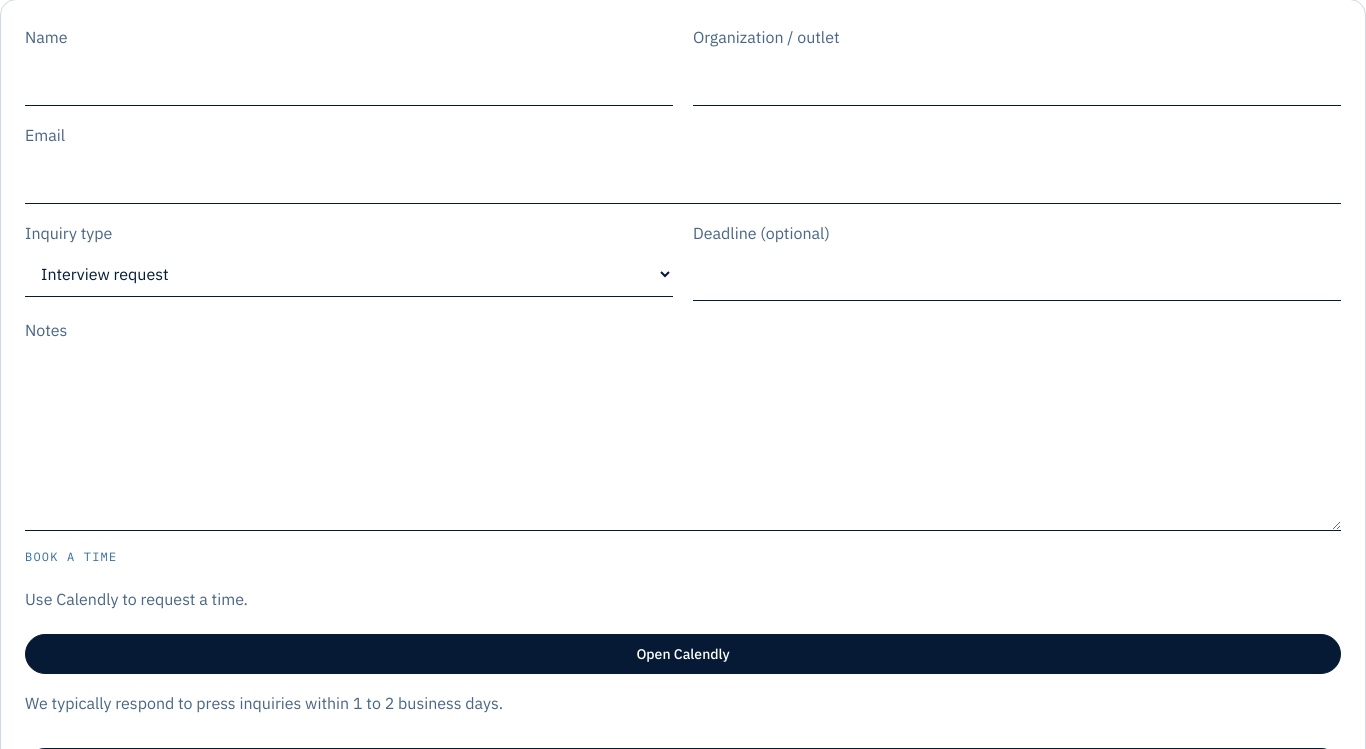
InquiryForm › surfaces a unique name error on the name field, not under Calendly
This screenshot has width=1366, height=749.
Step 1. Type "jane@example.com" into the field labelled "Email" → x=683, y=179, box left=25, top=154, right=1341, bottom=204
(page scrolled)
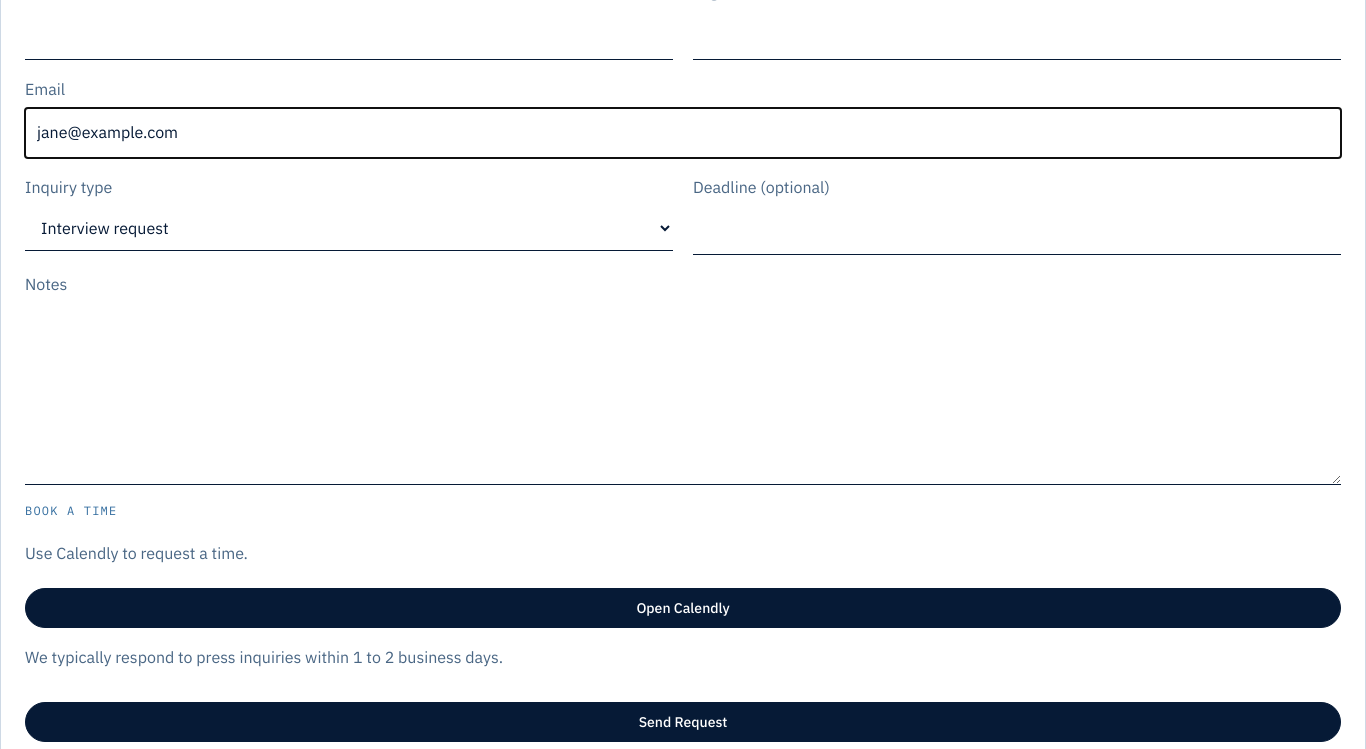
Step 2. Click the button "Send Request" → x=683, y=722, box left=25, top=702, right=1341, bottom=742
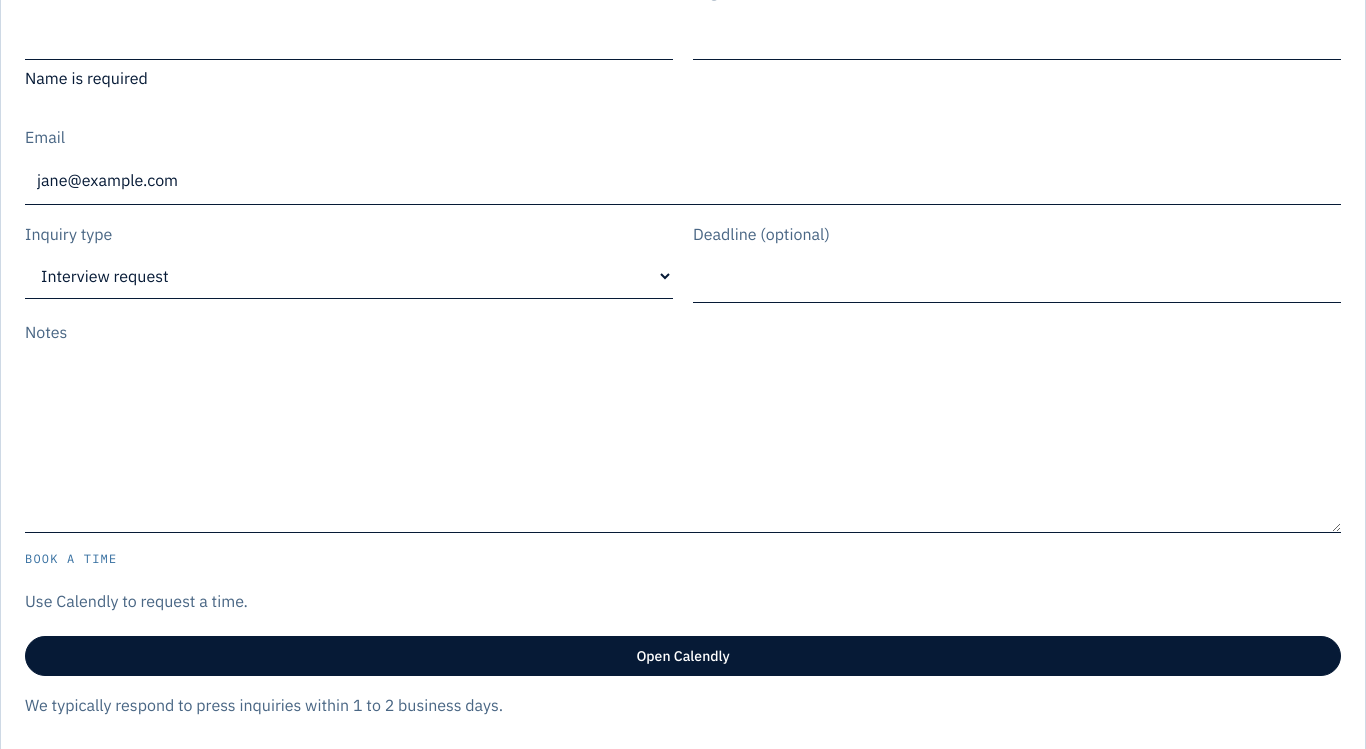
Check: the element showing "Book a time Use Calendly to request a time. Open Calendly" is shown, box left=25, top=549, right=1341, bottom=676
Check: the message reads "Name is required", box left=25, top=68, right=148, bottom=88
